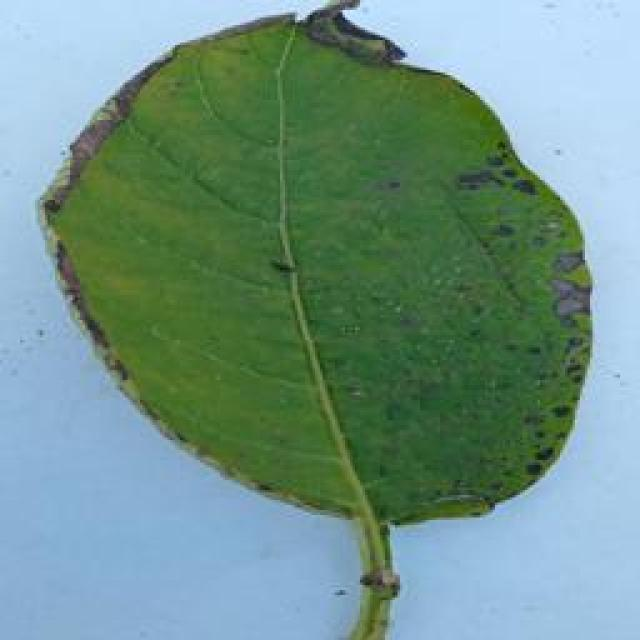Potato_Early_Blight: (34, 10, 623, 545)
